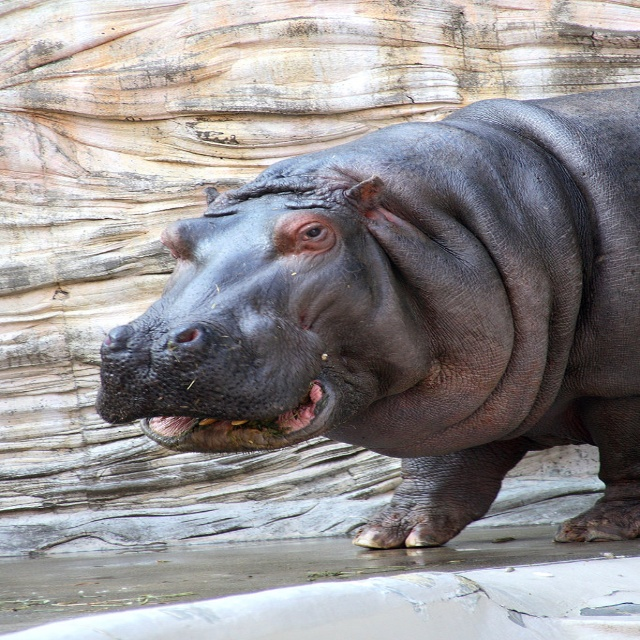Hippopotamus: (92, 83, 639, 546)
